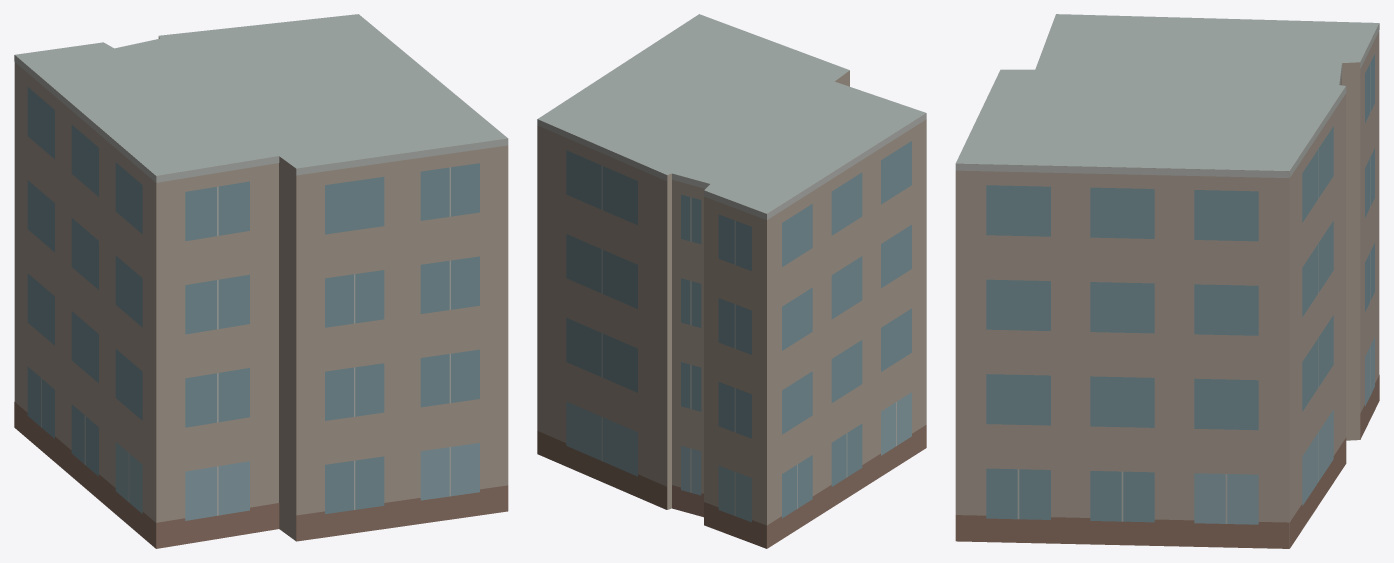
File: survey-upis-32807985.glb
3 renders of one model, left to right at view 1: azimuth 30°, elevation 25°; view 2: azimuth 150°, elevation 25°; view 3: azimuth 270°, elevation 25°, orthographic. The views are drawn at different scales.
Visible parts, largest first — view 1: survey-upis-32807985.tmp; view 2: survey-upis-32807985.tmp; view 3: survey-upis-32807985.tmp.
Boxes of the visible parts, x1,y1,x2,y2 form: survey-upis-32807985.tmp: [14, 14, 508, 548]; survey-upis-32807985.tmp: [537, 14, 926, 548]; survey-upis-32807985.tmp: [955, 14, 1379, 548].
Bounding box in the file's own units: 11.73 × 13.14 × 13.37.
